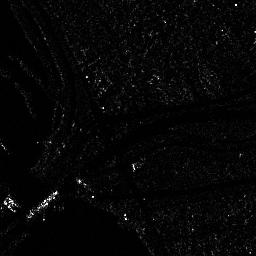ship: (26, 190, 58, 218)
